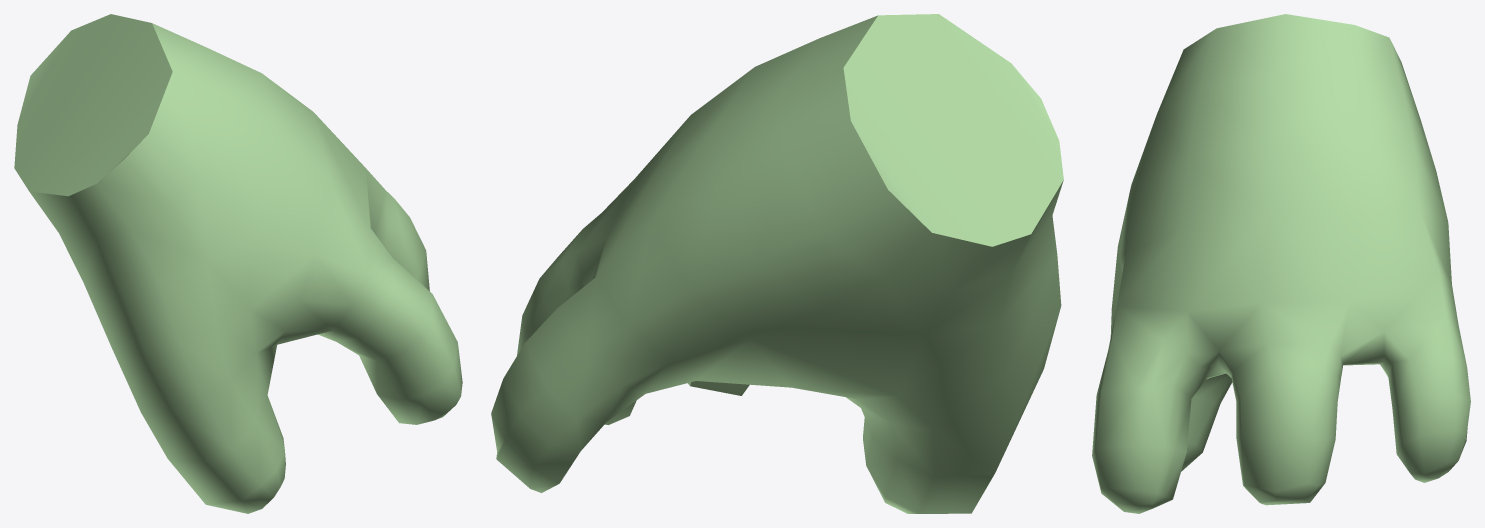
The model's file is SM_ FE_Char_alien_Left_Hand.fbx.
3 renders of one model, left to right at view 1: azimuth 30°, elevation 25°; view 2: azimuth 150°, elevation 25°; view 3: azimuth 270°, elevation 25°, orthographic. The views are drawn at different scales.
Parts seen in each view (by area): view 1: Right_Hand; view 2: Right_Hand; view 3: Right_Hand.
Part boxes in pixels (<box>): Right_Hand: <box>14,14,462,513</box>; Right_Hand: <box>491,14,1063,513</box>; Right_Hand: <box>1092,14,1470,513</box>.
Bounding box in the file's own units: 19.39 × 20.71 × 15.9.
